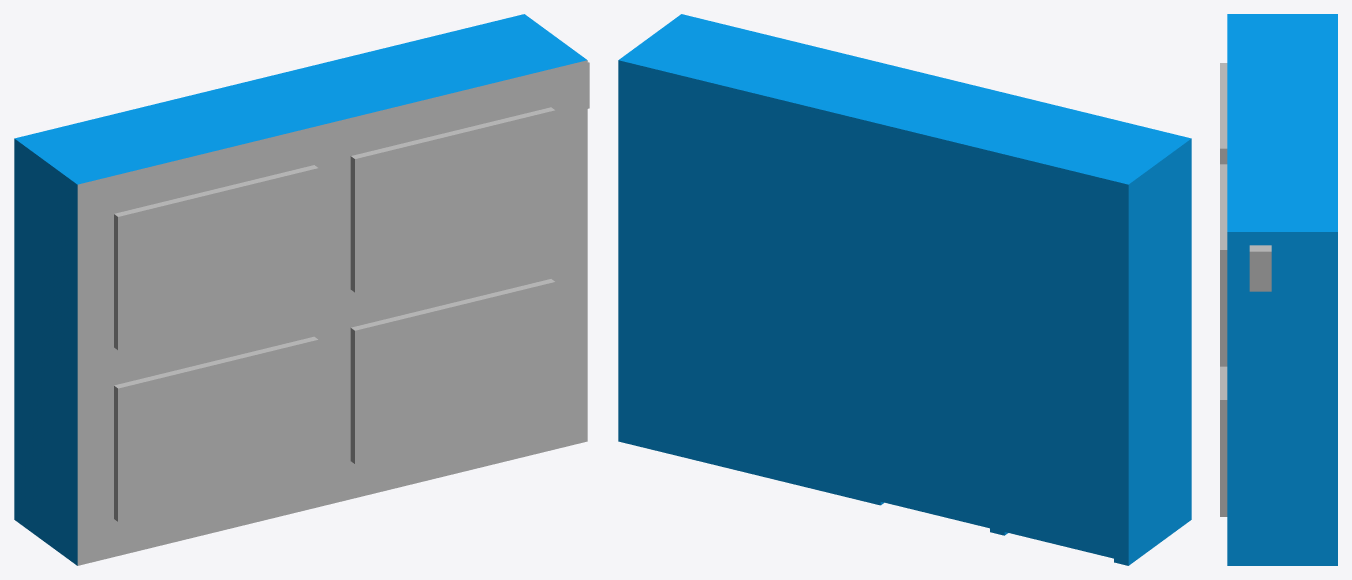
File: warehouse_2.dae
3 renders of one model, left to right at view 1: azimuth 30°, elevation 25°; view 2: azimuth 150°, elevation 25°; view 3: azimuth 270°, elevation 25°, orthographic. The views are drawn at different scales.
Parts seen in each view (by area): view 1: coords_ME_ID11_MA_material_11, coords_ME_ID3_MA_material_6, coords_ME_ID77_MA_material_11, coords_ME_ID65_MA_material_11, coords_ME_ID59_MA_material_11, coords_ME_ID71_MA_material_11; view 2: coords_ME_ID3_MA_material_6; view 3: coords_ME_ID3_MA_material_6, coords_ME_ID77_MA_material_11, coords_ME_ID65_MA_material_11, coords_ME_ID53_MA_material_11, coords_ME_ID71_MA_material_11.
Boxes of the visible parts, x1=… form: coords_ME_ID11_MA_material_11: x1=77, y1=60, x2=587, y2=565; coords_ME_ID3_MA_material_6: x1=14, y1=14, x2=587, y2=565; coords_ME_ID77_MA_material_11: x1=350, y1=107, x2=555, y2=292; coords_ME_ID65_MA_material_11: x1=350, y1=279, x2=555, y2=463; coords_ME_ID59_MA_material_11: x1=114, y1=336, x2=318, y2=521; coords_ME_ID71_MA_material_11: x1=114, y1=165, x2=318, y2=350; coords_ME_ID3_MA_material_6: x1=618, y1=14, x2=1191, y2=565; coords_ME_ID3_MA_material_6: x1=1227, y1=14, x2=1337, y2=565; coords_ME_ID77_MA_material_11: x1=1220, y1=164, x2=1227, y2=366; coords_ME_ID65_MA_material_11: x1=1220, y1=366, x2=1227, y2=516; coords_ME_ID53_MA_material_11: x1=1249, y1=245, x2=1271, y2=291; coords_ME_ID71_MA_material_11: x1=1220, y1=63, x2=1227, y2=164.
Bounding box in the file's own units: 227 × 157 × 50.39.
